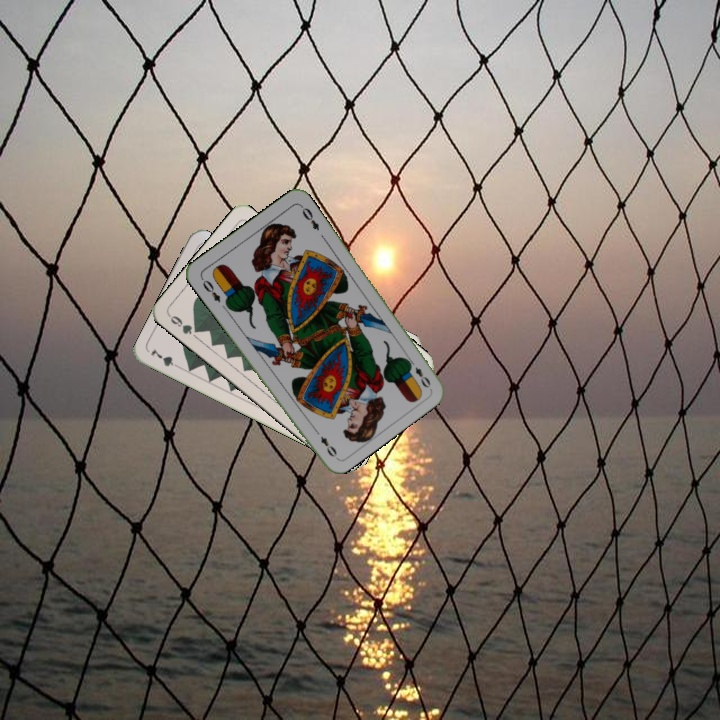EO: (404, 355, 433, 391), (197, 274, 223, 305)
G7: (146, 344, 184, 372)
G9: (165, 311, 203, 337)
